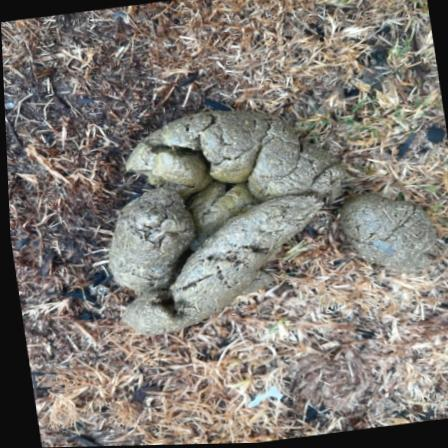dog-poop: (76, 78, 349, 351), (341, 186, 443, 277)
